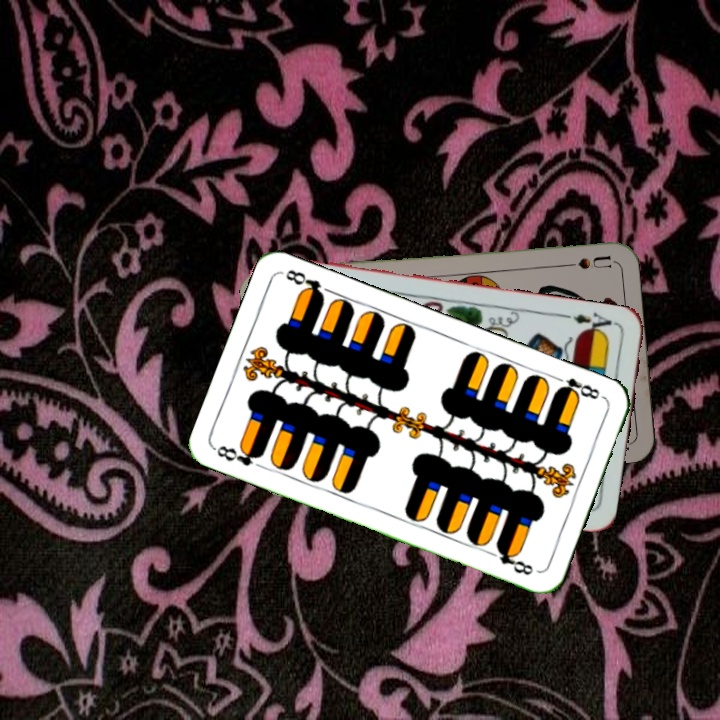E8: (550, 372, 602, 402), (211, 441, 266, 469)
EA: (569, 308, 614, 338)
SU: (553, 251, 613, 272)
